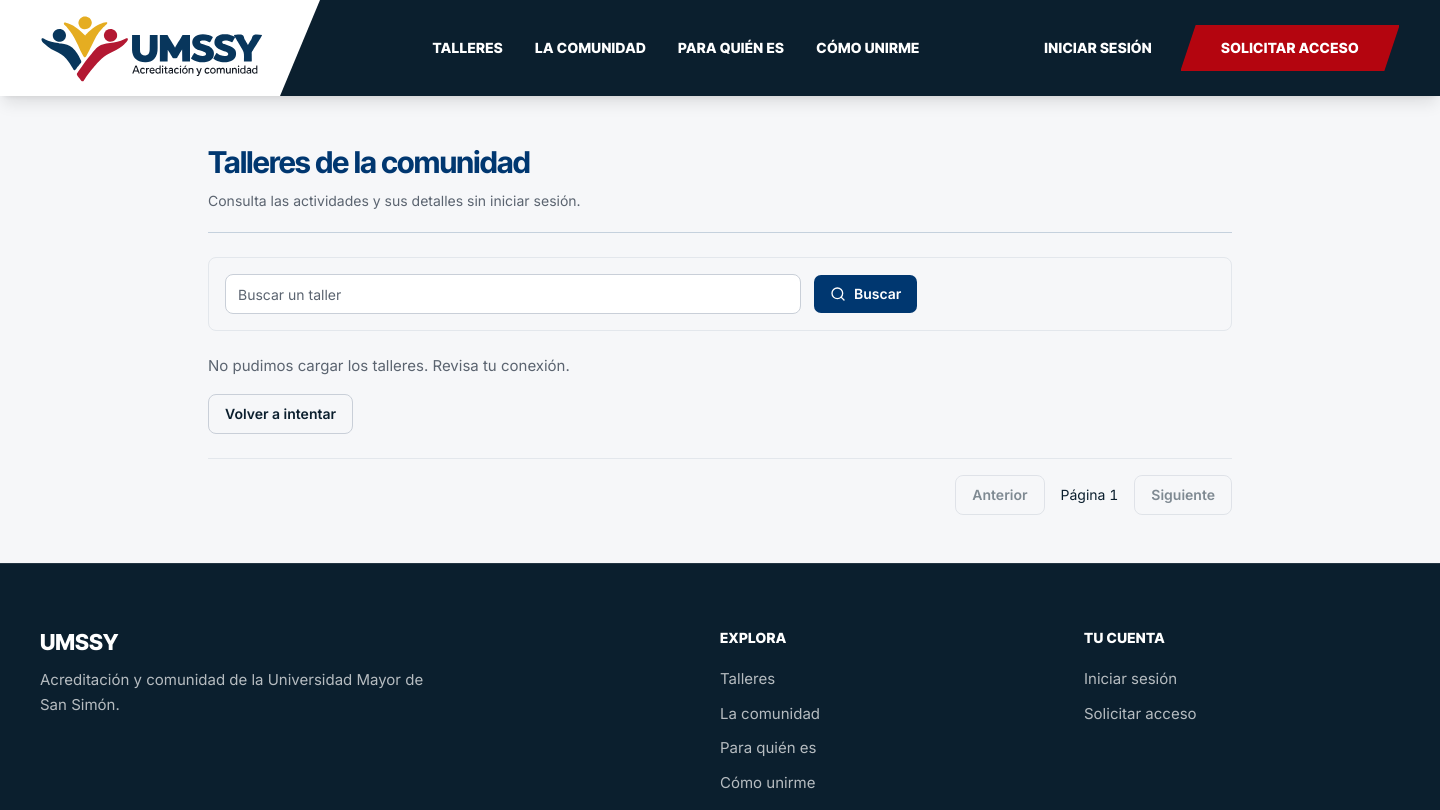
Test: Public workshops › recovers from a failed query without fabricated events
Click the button "Volver a intentar": [281, 414] box left=208, top=394, right=353, bottom=434
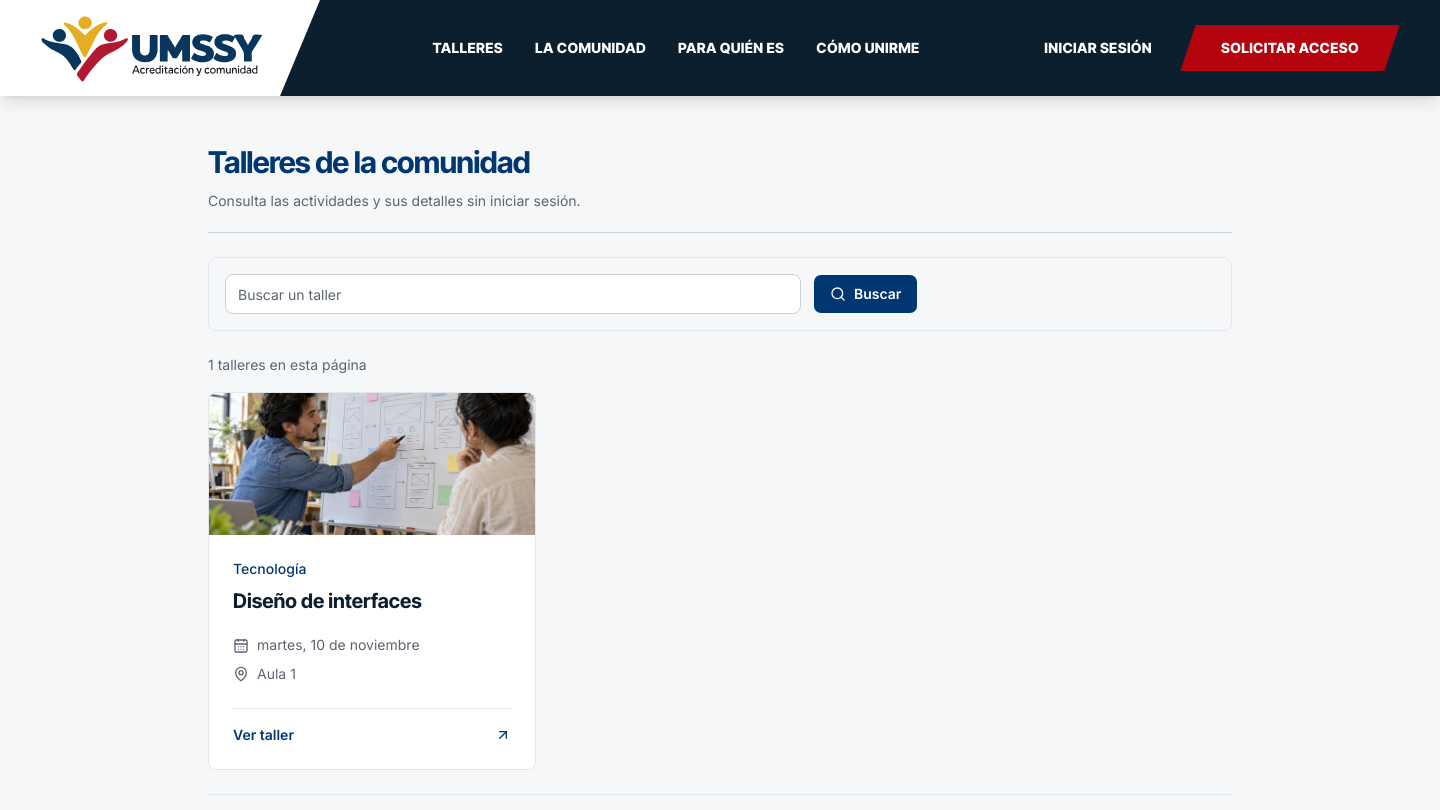
Result: the heading "Diseño de interfaces" is shown at left=233, top=590, right=422, bottom=614
